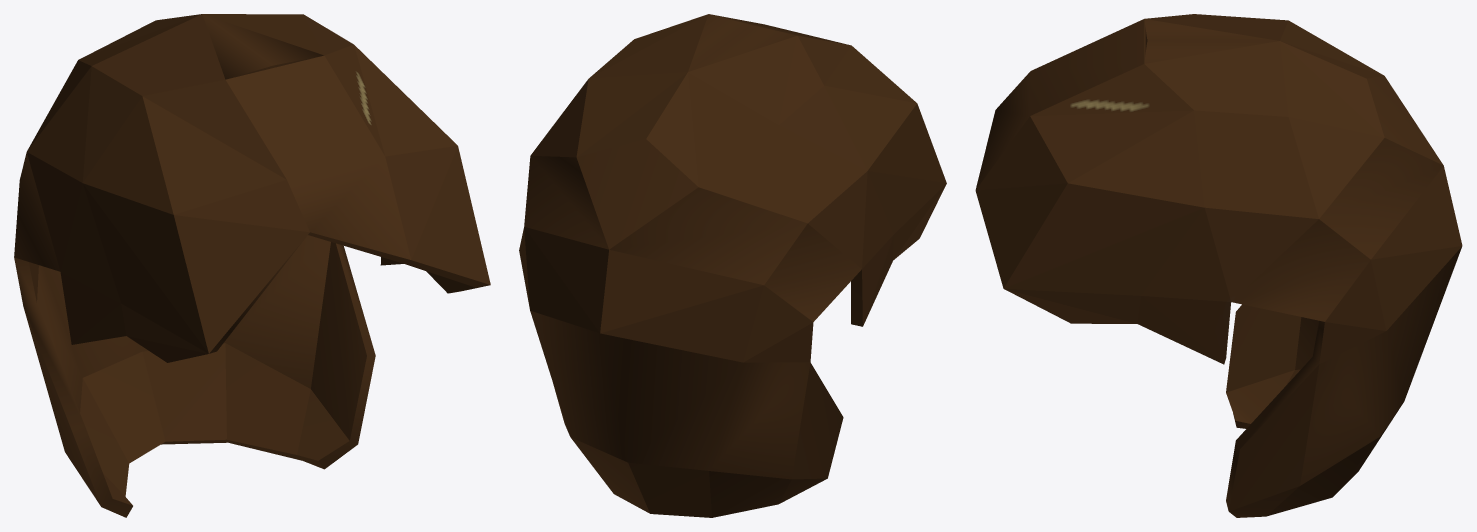
Rendered from hairmale1 (1).fbx.
3 renders of one model, left to right at view 1: azimuth 30°, elevation 25°; view 2: azimuth 150°, elevation 25°; view 3: azimuth 270°, elevation 25°, orthographic. The views are drawn at different scales.
Parts seen in each view (by area): view 1: Cylinder013; view 2: Cylinder013; view 3: Cylinder013.
Part boxes in pixels (x1,y1,x2,y2): Cylinder013: [14, 14, 490, 517]; Cylinder013: [519, 14, 946, 517]; Cylinder013: [975, 14, 1462, 517].
Bounding box in the file's own units: 0.4572 × 0.6153 × 0.6044.
